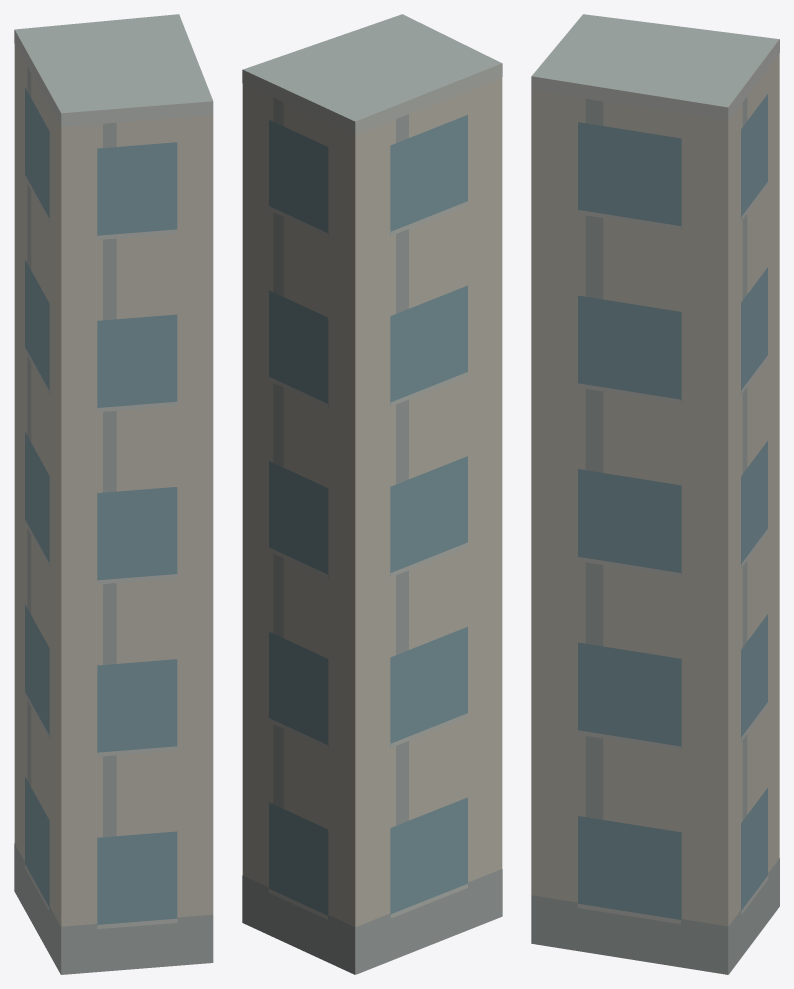
File: survey-upis-32942724.glb
3 views of the same model, side by side, from view 1: azimuth 30°, elevation 25°; view 2: azimuth 150°, elevation 25°; view 3: azimuth 270°, elevation 25° (orthographic).
Parts seen in each view (by area): view 1: survey-upis-32942724.tmp; view 2: survey-upis-32942724.tmp; view 3: survey-upis-32942724.tmp.
Boxes of the visible parts, left/top/right/bottom form: survey-upis-32942724.tmp: left=14, top=14, right=213, bottom=974; survey-upis-32942724.tmp: left=242, top=14, right=502, bottom=974; survey-upis-32942724.tmp: left=531, top=14, right=779, bottom=974.
Bounding box in the file's own units: 3.53 × 15.25 × 3.96.
